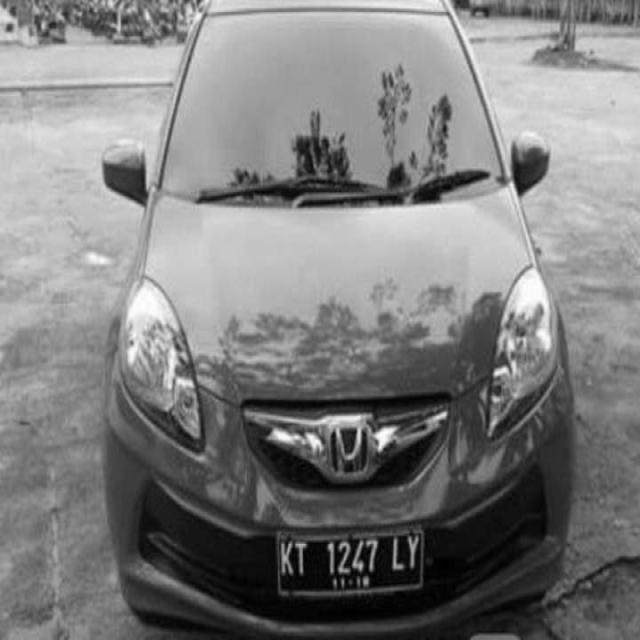plate: (277, 527, 423, 597)
